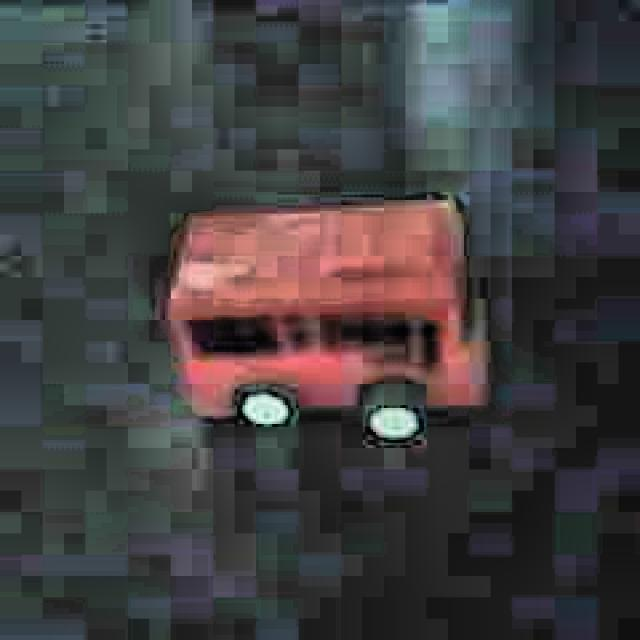bus: (146, 177, 497, 469)
